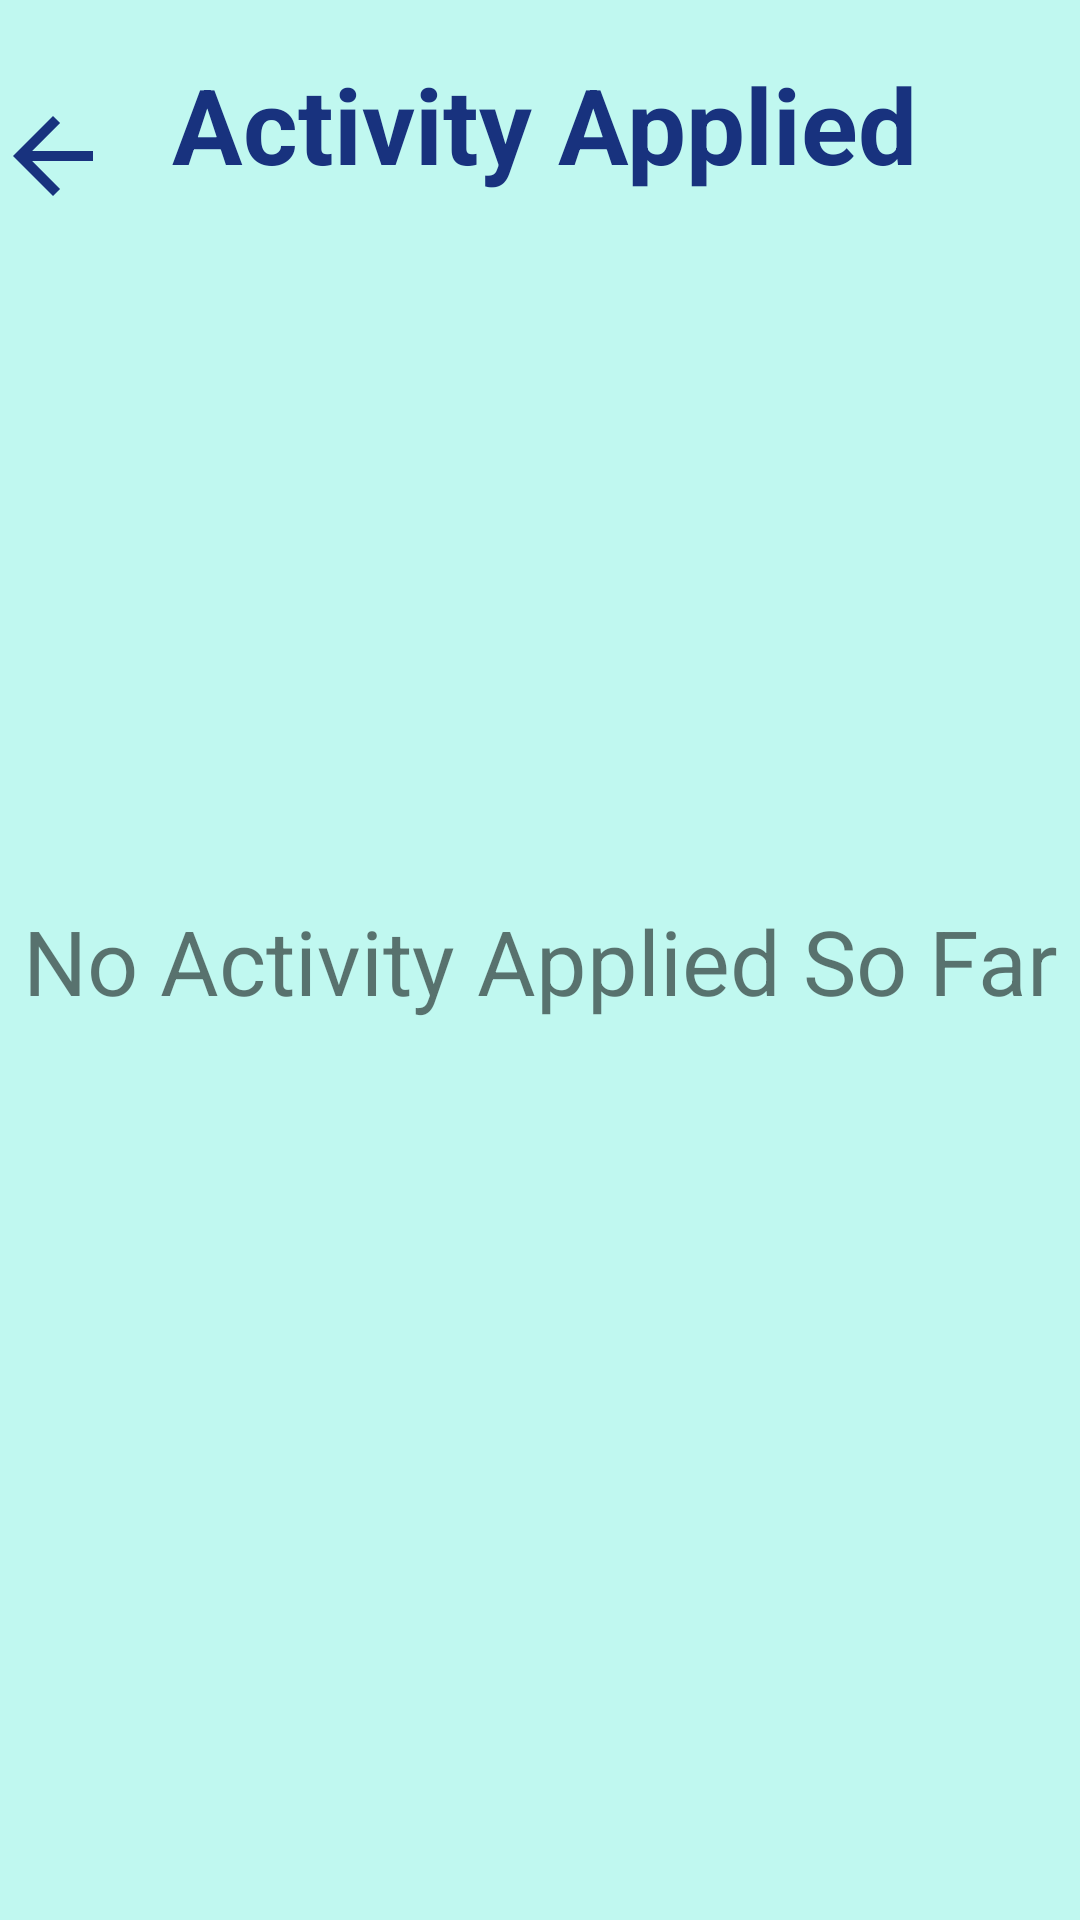

Where to tap for icons on this 1080*1920 app screen, as [x,y]:
back: [53,156]
